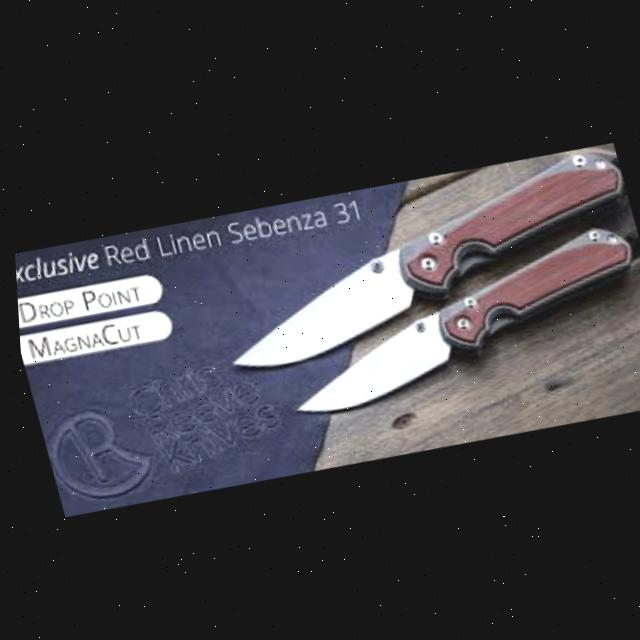Knife: (187, 129, 640, 383), (254, 207, 640, 425)
